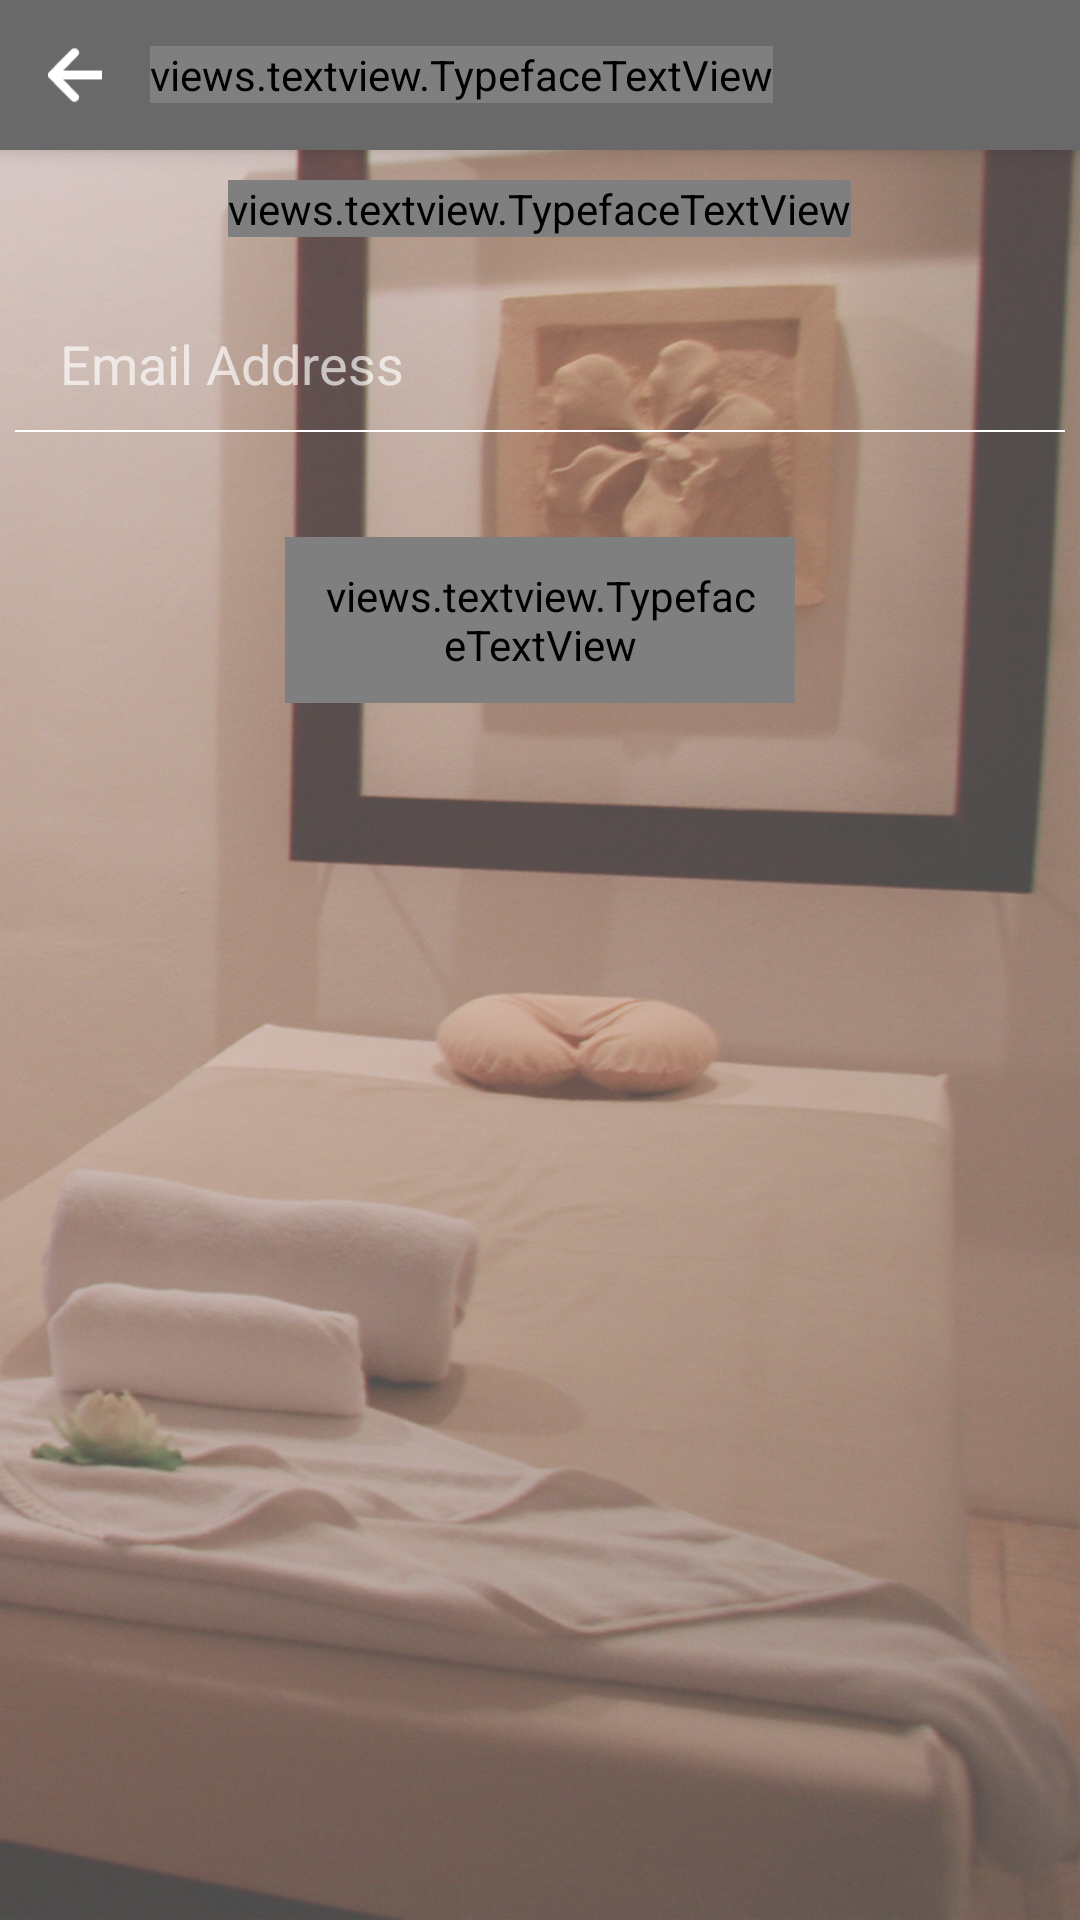

Named icons in this screenshot (1080 x 1920) and their centers, (x=x, y=y):
leftarrow: (x=75, y=75)
